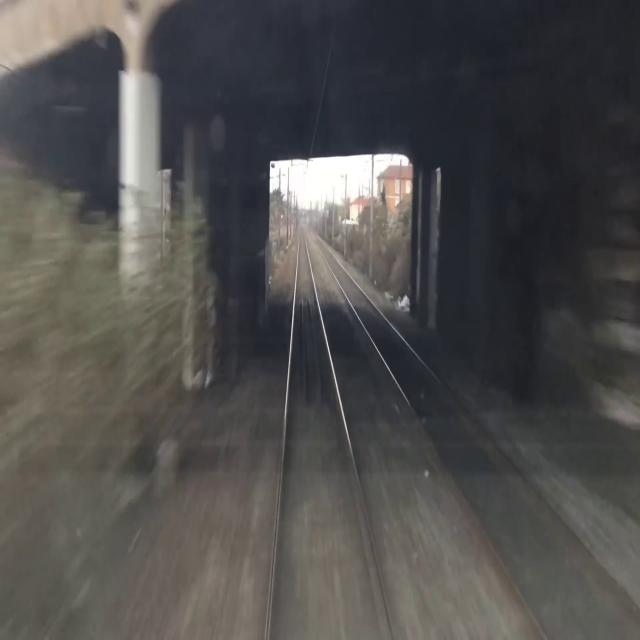rail-track: (316, 241, 638, 638), (269, 227, 390, 639)
